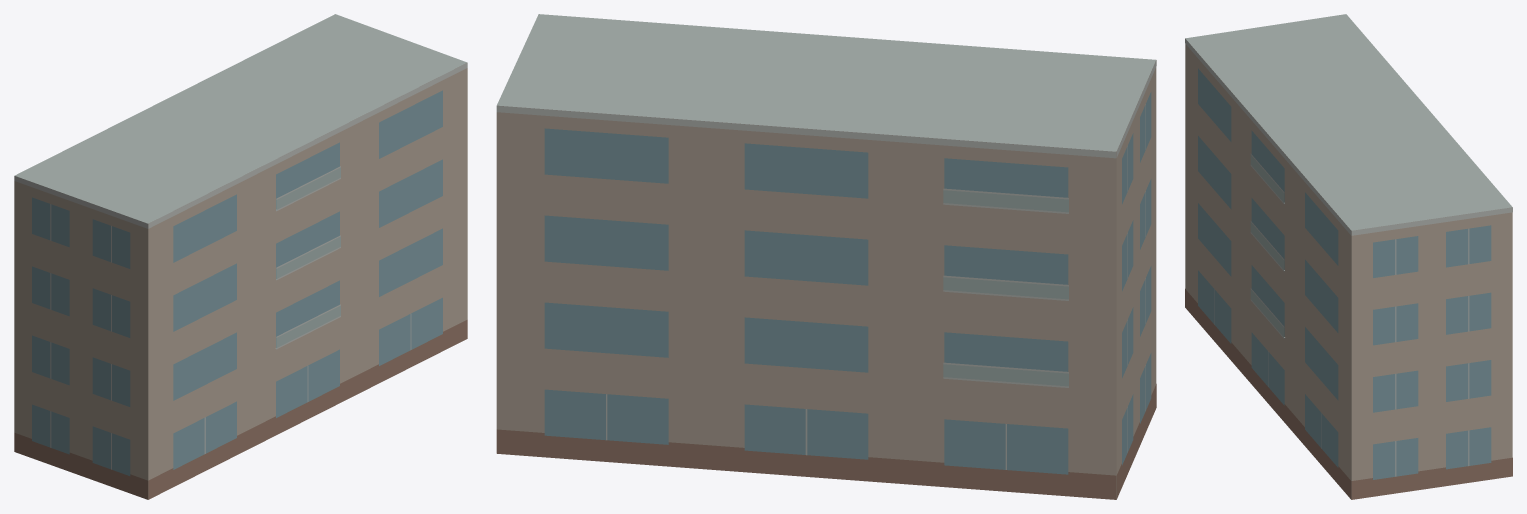
File: survey-upis-33003654.glb
3 views of the same model, side by side, from view 1: azimuth 30°, elevation 25°; view 2: azimuth 150°, elevation 25°; view 3: azimuth 270°, elevation 25° (orthographic). The views are drawn at different scales.
Parts seen in each view (by area): view 1: survey-upis-33003654.tmp; view 2: survey-upis-33003654.tmp; view 3: survey-upis-33003654.tmp.
Part boxes in pixels (box(x1,y1,x2,y2)): survey-upis-33003654.tmp: box(14, 14, 467, 499); survey-upis-33003654.tmp: box(496, 14, 1156, 499); survey-upis-33003654.tmp: box(1185, 14, 1512, 499).
Size of the model in its own units: 22.29 by 12.9 by 14.24.
